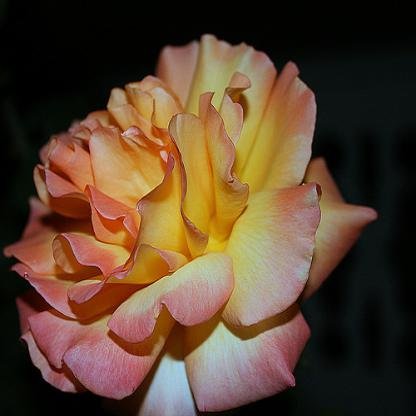ROSE-MAWAR: (3, 31, 380, 415)
